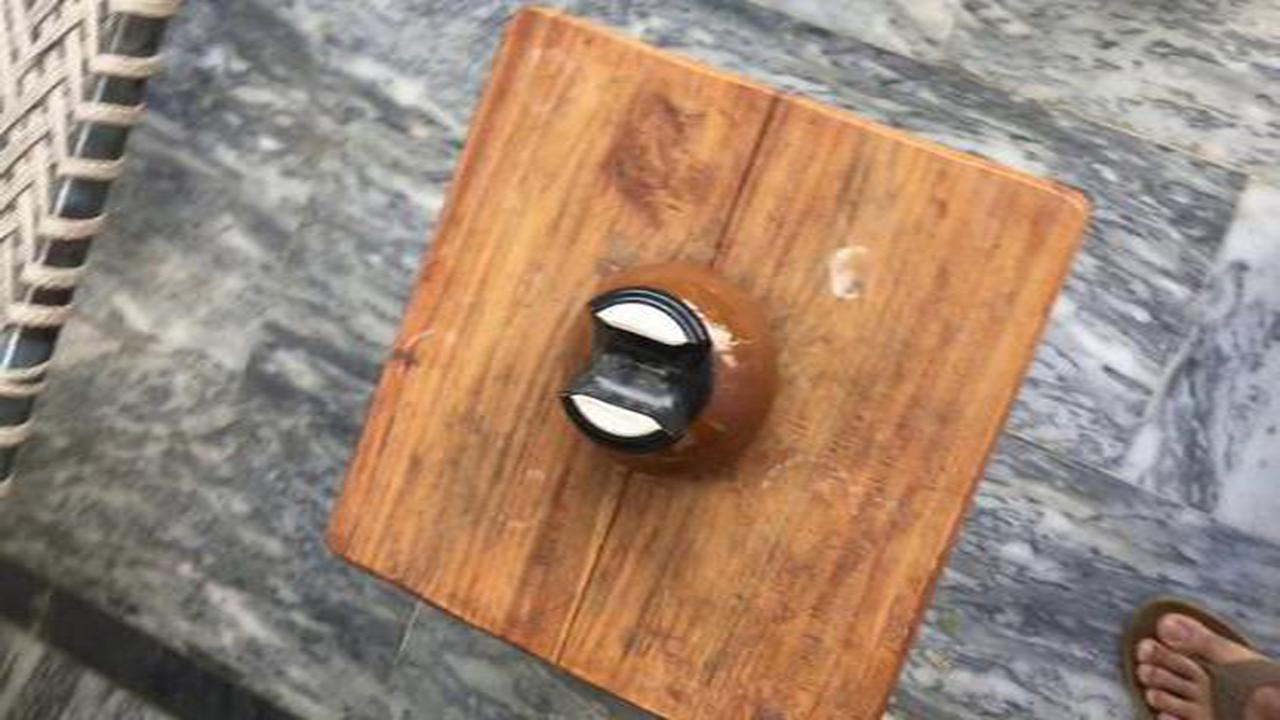insulator_pin: (533, 255, 804, 501)
